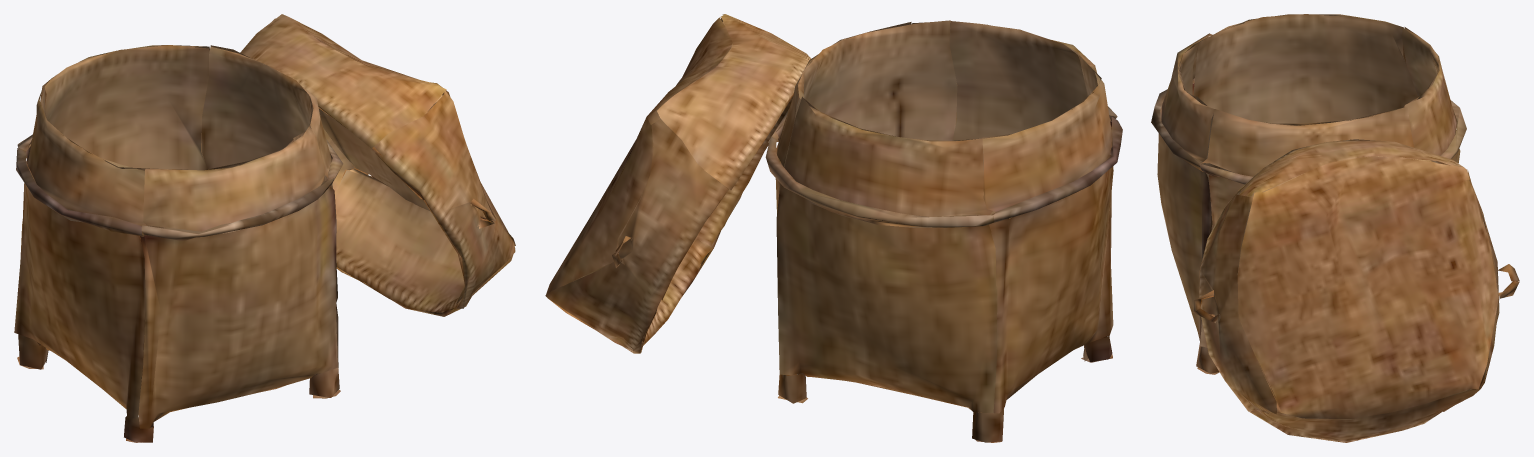
Rendered from basket_wicker.glb.
3 renders of one model, left to right at view 1: azimuth 30°, elevation 25°; view 2: azimuth 150°, elevation 25°; view 3: azimuth 270°, elevation 25°, orthographic. The views are drawn at different scales.
Visible parts, largest first — view 1: wicker_basket_02_base, wicker_basket_02_lid; view 2: wicker_basket_02_base, wicker_basket_02_lid; view 3: wicker_basket_02_lid, wicker_basket_02_base.
Boxes of the visible parts, x1,y1,x2,y2 form: wicker_basket_02_base: (14, 45, 343, 442); wicker_basket_02_lid: (240, 14, 515, 316); wicker_basket_02_base: (765, 20, 1122, 442); wicker_basket_02_lid: (545, 14, 811, 353); wicker_basket_02_lid: (1193, 139, 1519, 442); wicker_basket_02_base: (1151, 14, 1466, 374).
Bounding box in the file's own units: 0.347 × 0.2013 × 0.2547.
1 material, 1 textured.
